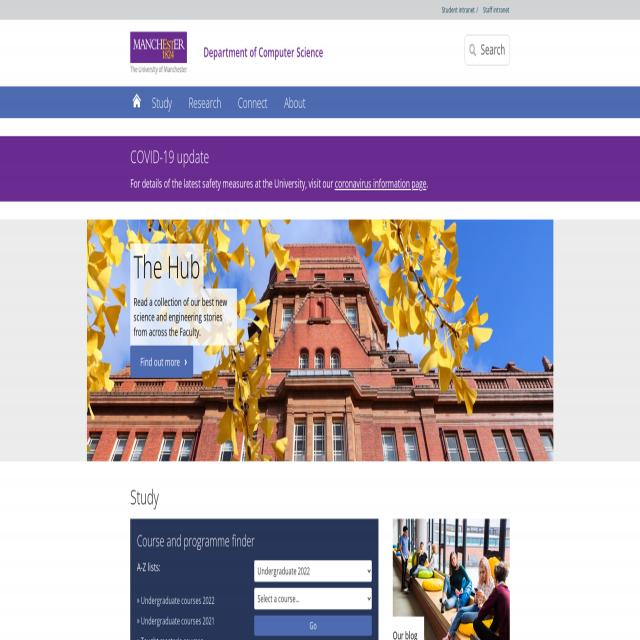button: (393, 519, 510, 640), (130, 32, 187, 74), (254, 616, 371, 636), (130, 346, 193, 378), (180, 86, 230, 118), (229, 86, 276, 118), (276, 86, 314, 118), (144, 86, 180, 118), (130, 86, 144, 115)
field: (254, 560, 372, 582), (254, 588, 372, 609), (465, 35, 510, 65)
